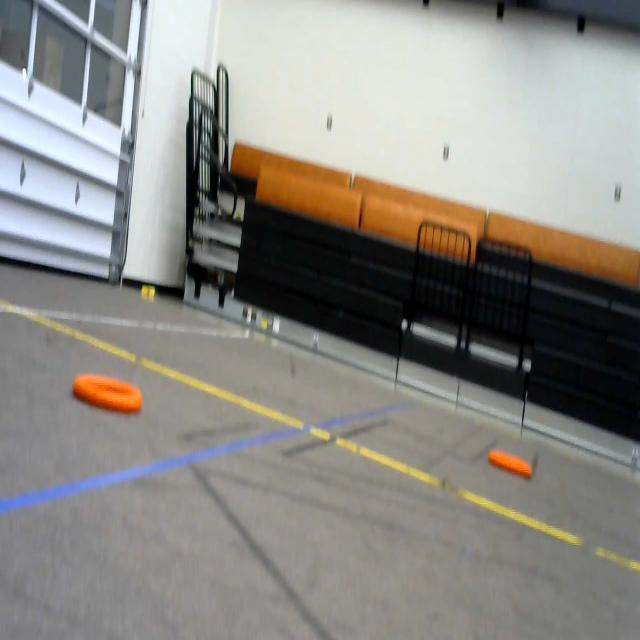note: (69, 365, 150, 421), (485, 436, 536, 486)
